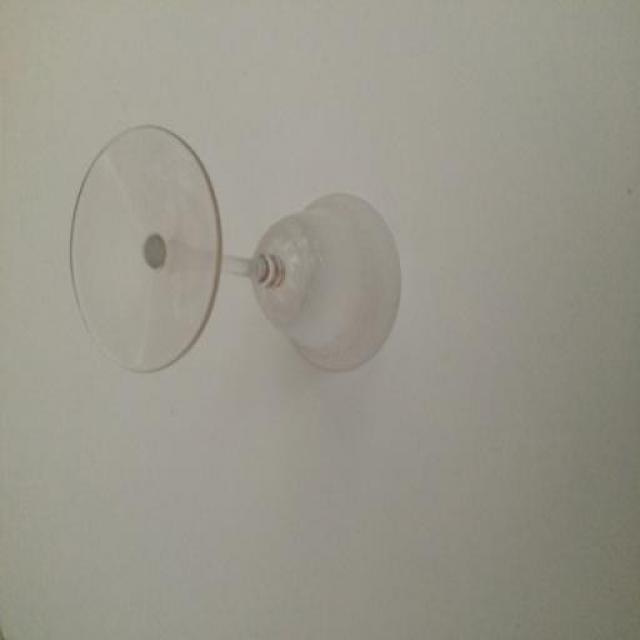Waste: (70, 125, 401, 372)
